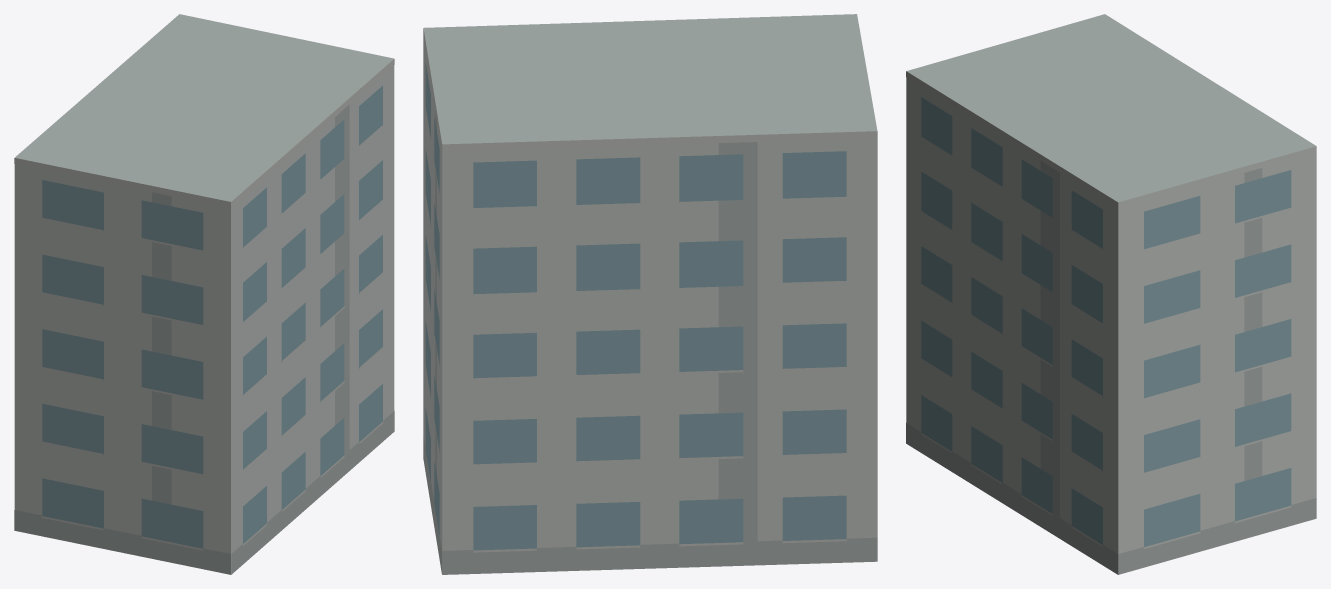
Rendered from survey-upis-32974782.glb.
3 views of the same model, side by side, from view 1: azimuth 30°, elevation 25°; view 2: azimuth 150°, elevation 25°; view 3: azimuth 270°, elevation 25° (orthographic). The views are drawn at different scales.
Visible parts, largest first — view 1: survey-upis-32974782.tmp; view 2: survey-upis-32974782.tmp; view 3: survey-upis-32974782.tmp.
Boxes of the visible parts, box(x1,y1,x2,y2) form: survey-upis-32974782.tmp: box(14, 14, 394, 574); survey-upis-32974782.tmp: box(423, 14, 877, 574); survey-upis-32974782.tmp: box(906, 14, 1316, 574).
Bounding box in the file's own units: 15.85 × 14.6 × 14.59.
